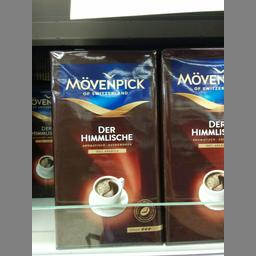coffee: (48, 47, 163, 247), (160, 46, 223, 247)
